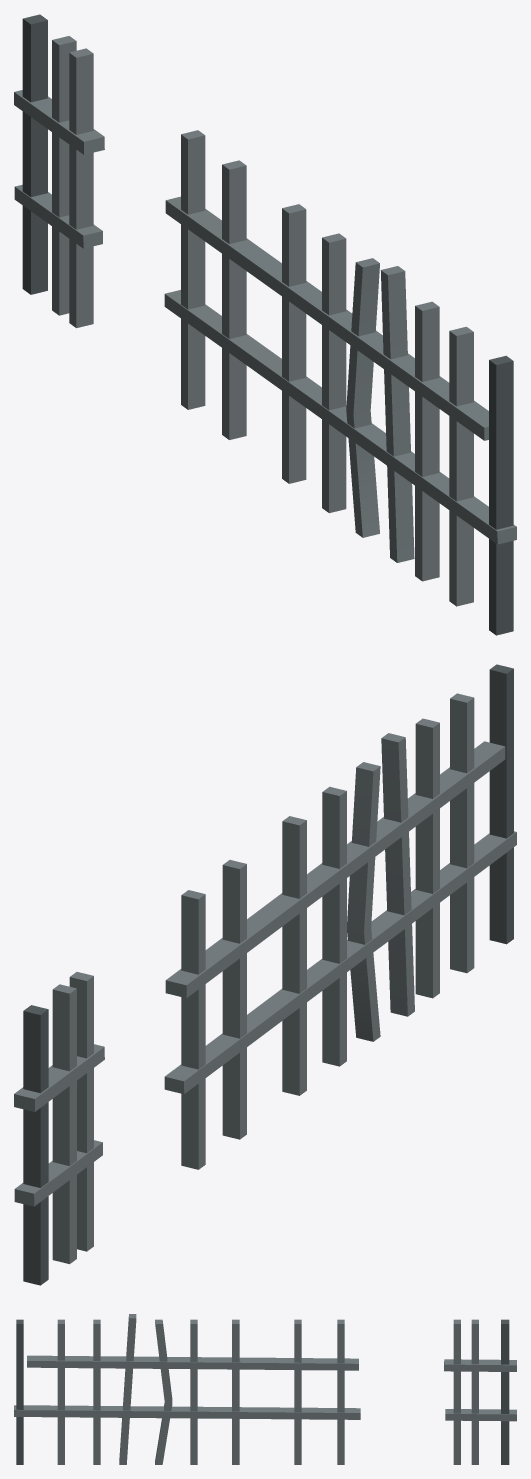
The model's file is Jail_Cell_Long_Type2.fbx.
3 renders of one model, top to bottom at view 1: azimuth 30°, elevation 25°; view 2: azimuth 150°, elevation 25°; view 3: azimuth 270°, elevation 25°, orthographic. The views are drawn at different scales.
Visible parts, largest first — view 1: Jail_Cell_Long_Type2; view 2: Jail_Cell_Long_Type2; view 3: Jail_Cell_Long_Type2.
Part boxes in pixels (bbox=[...]): Jail_Cell_Long_Type2: bbox=[14, 14, 516, 635]; Jail_Cell_Long_Type2: bbox=[14, 664, 516, 1285]; Jail_Cell_Long_Type2: bbox=[14, 1314, 516, 1464].
Bounding box in the file's own units: 0.3674 × 4.73 × 14.72.
